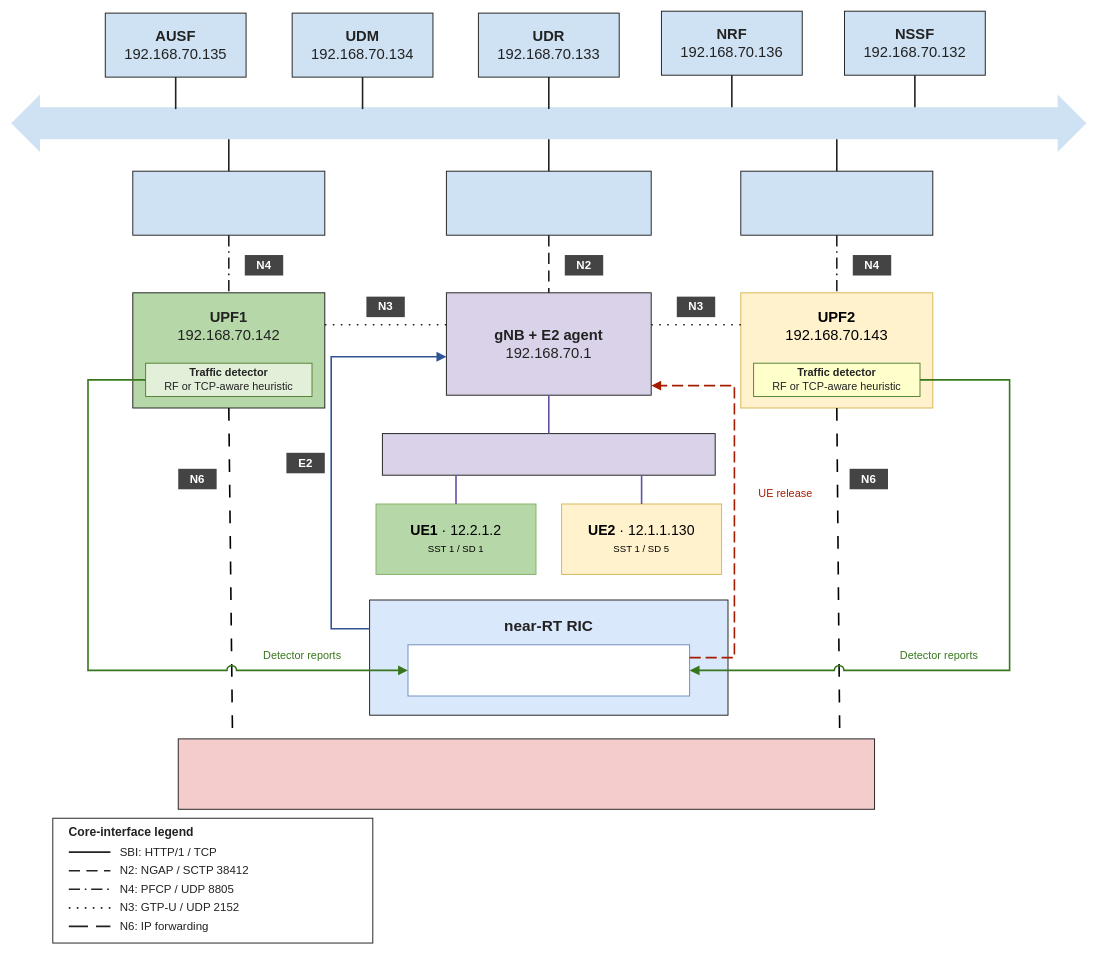
Image size: 1097x955. Some labels were removed from this diagram. The centre of each missing label's shape, as x and y in pixels:
"AMF 192.168.70.138" belongs at pixel 548 202.
"Control xApp" belongs at pixel 548 670.
"External data network 192.168.70.145" belongs at pixel 526 773.
"Network: 192.168.70.0/24" belongs at pixel 548 123.
"Simulated RF links RFsim IQ transport · TCP 4043" belongs at pixel 548 454.
"SMF1 192.168.70.139 SST 1 / SD 1" belongs at pixel 228 202.
"SMF2 192.168.70.140 SST 1 / SD 5" belongs at pixel 836 202.
